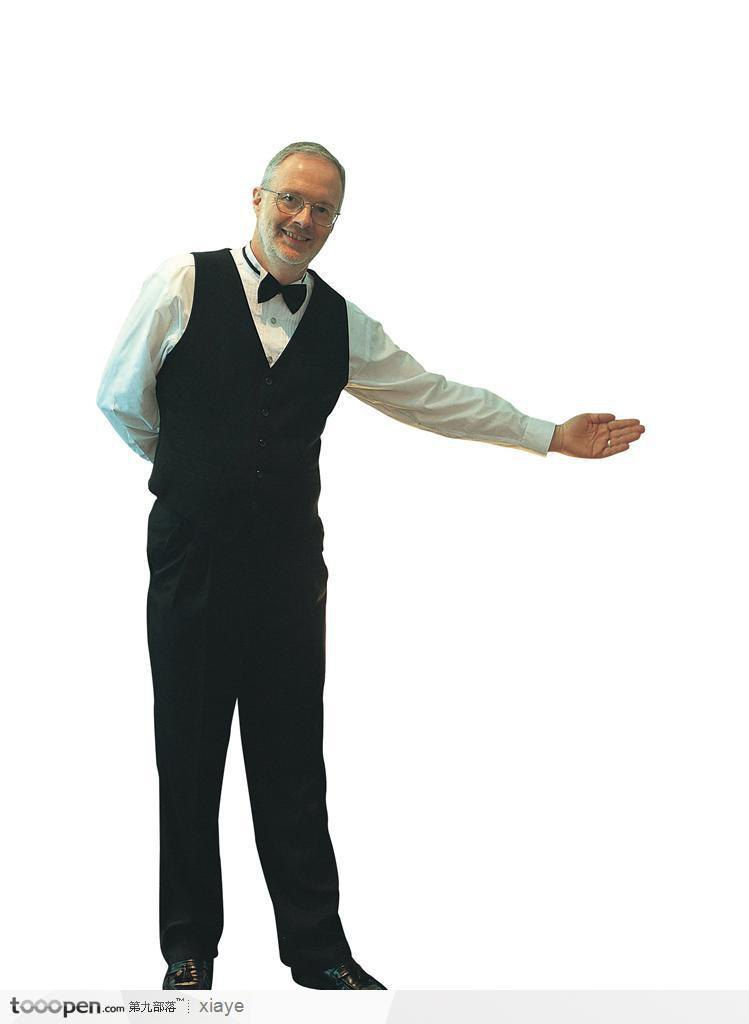hand: (562, 412, 646, 460)
